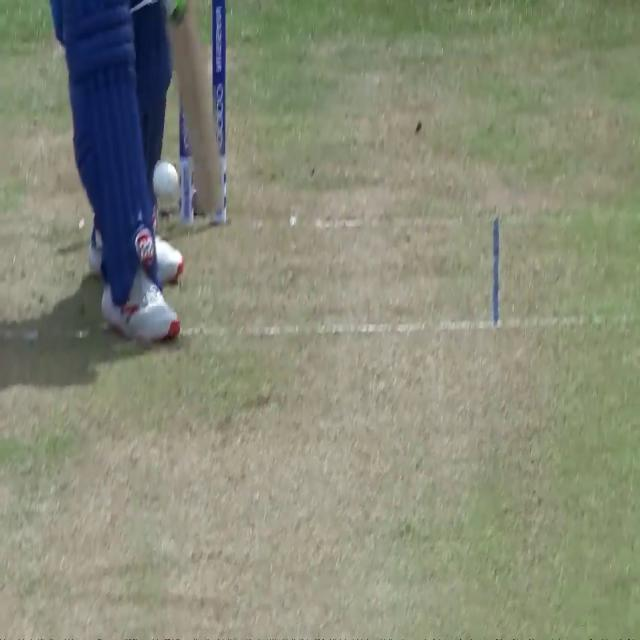ball: (152, 161, 178, 204)
